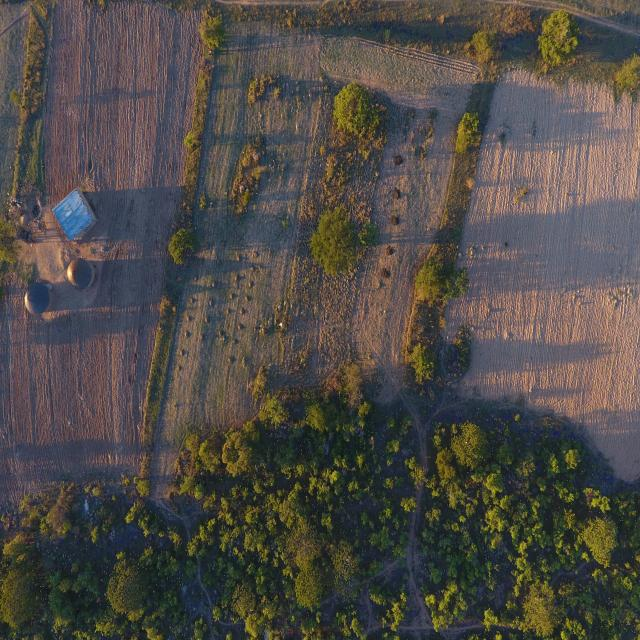boundaries: (133, 45, 228, 469), (408, 77, 503, 331)
